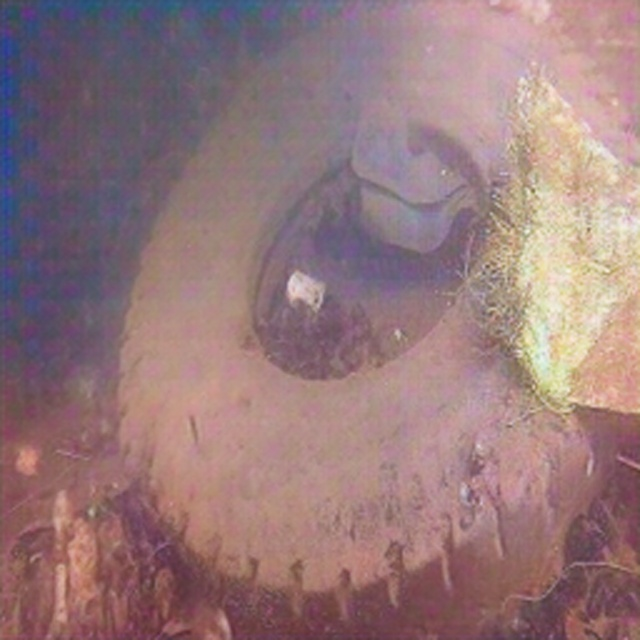mine: (115, 2, 640, 639)
